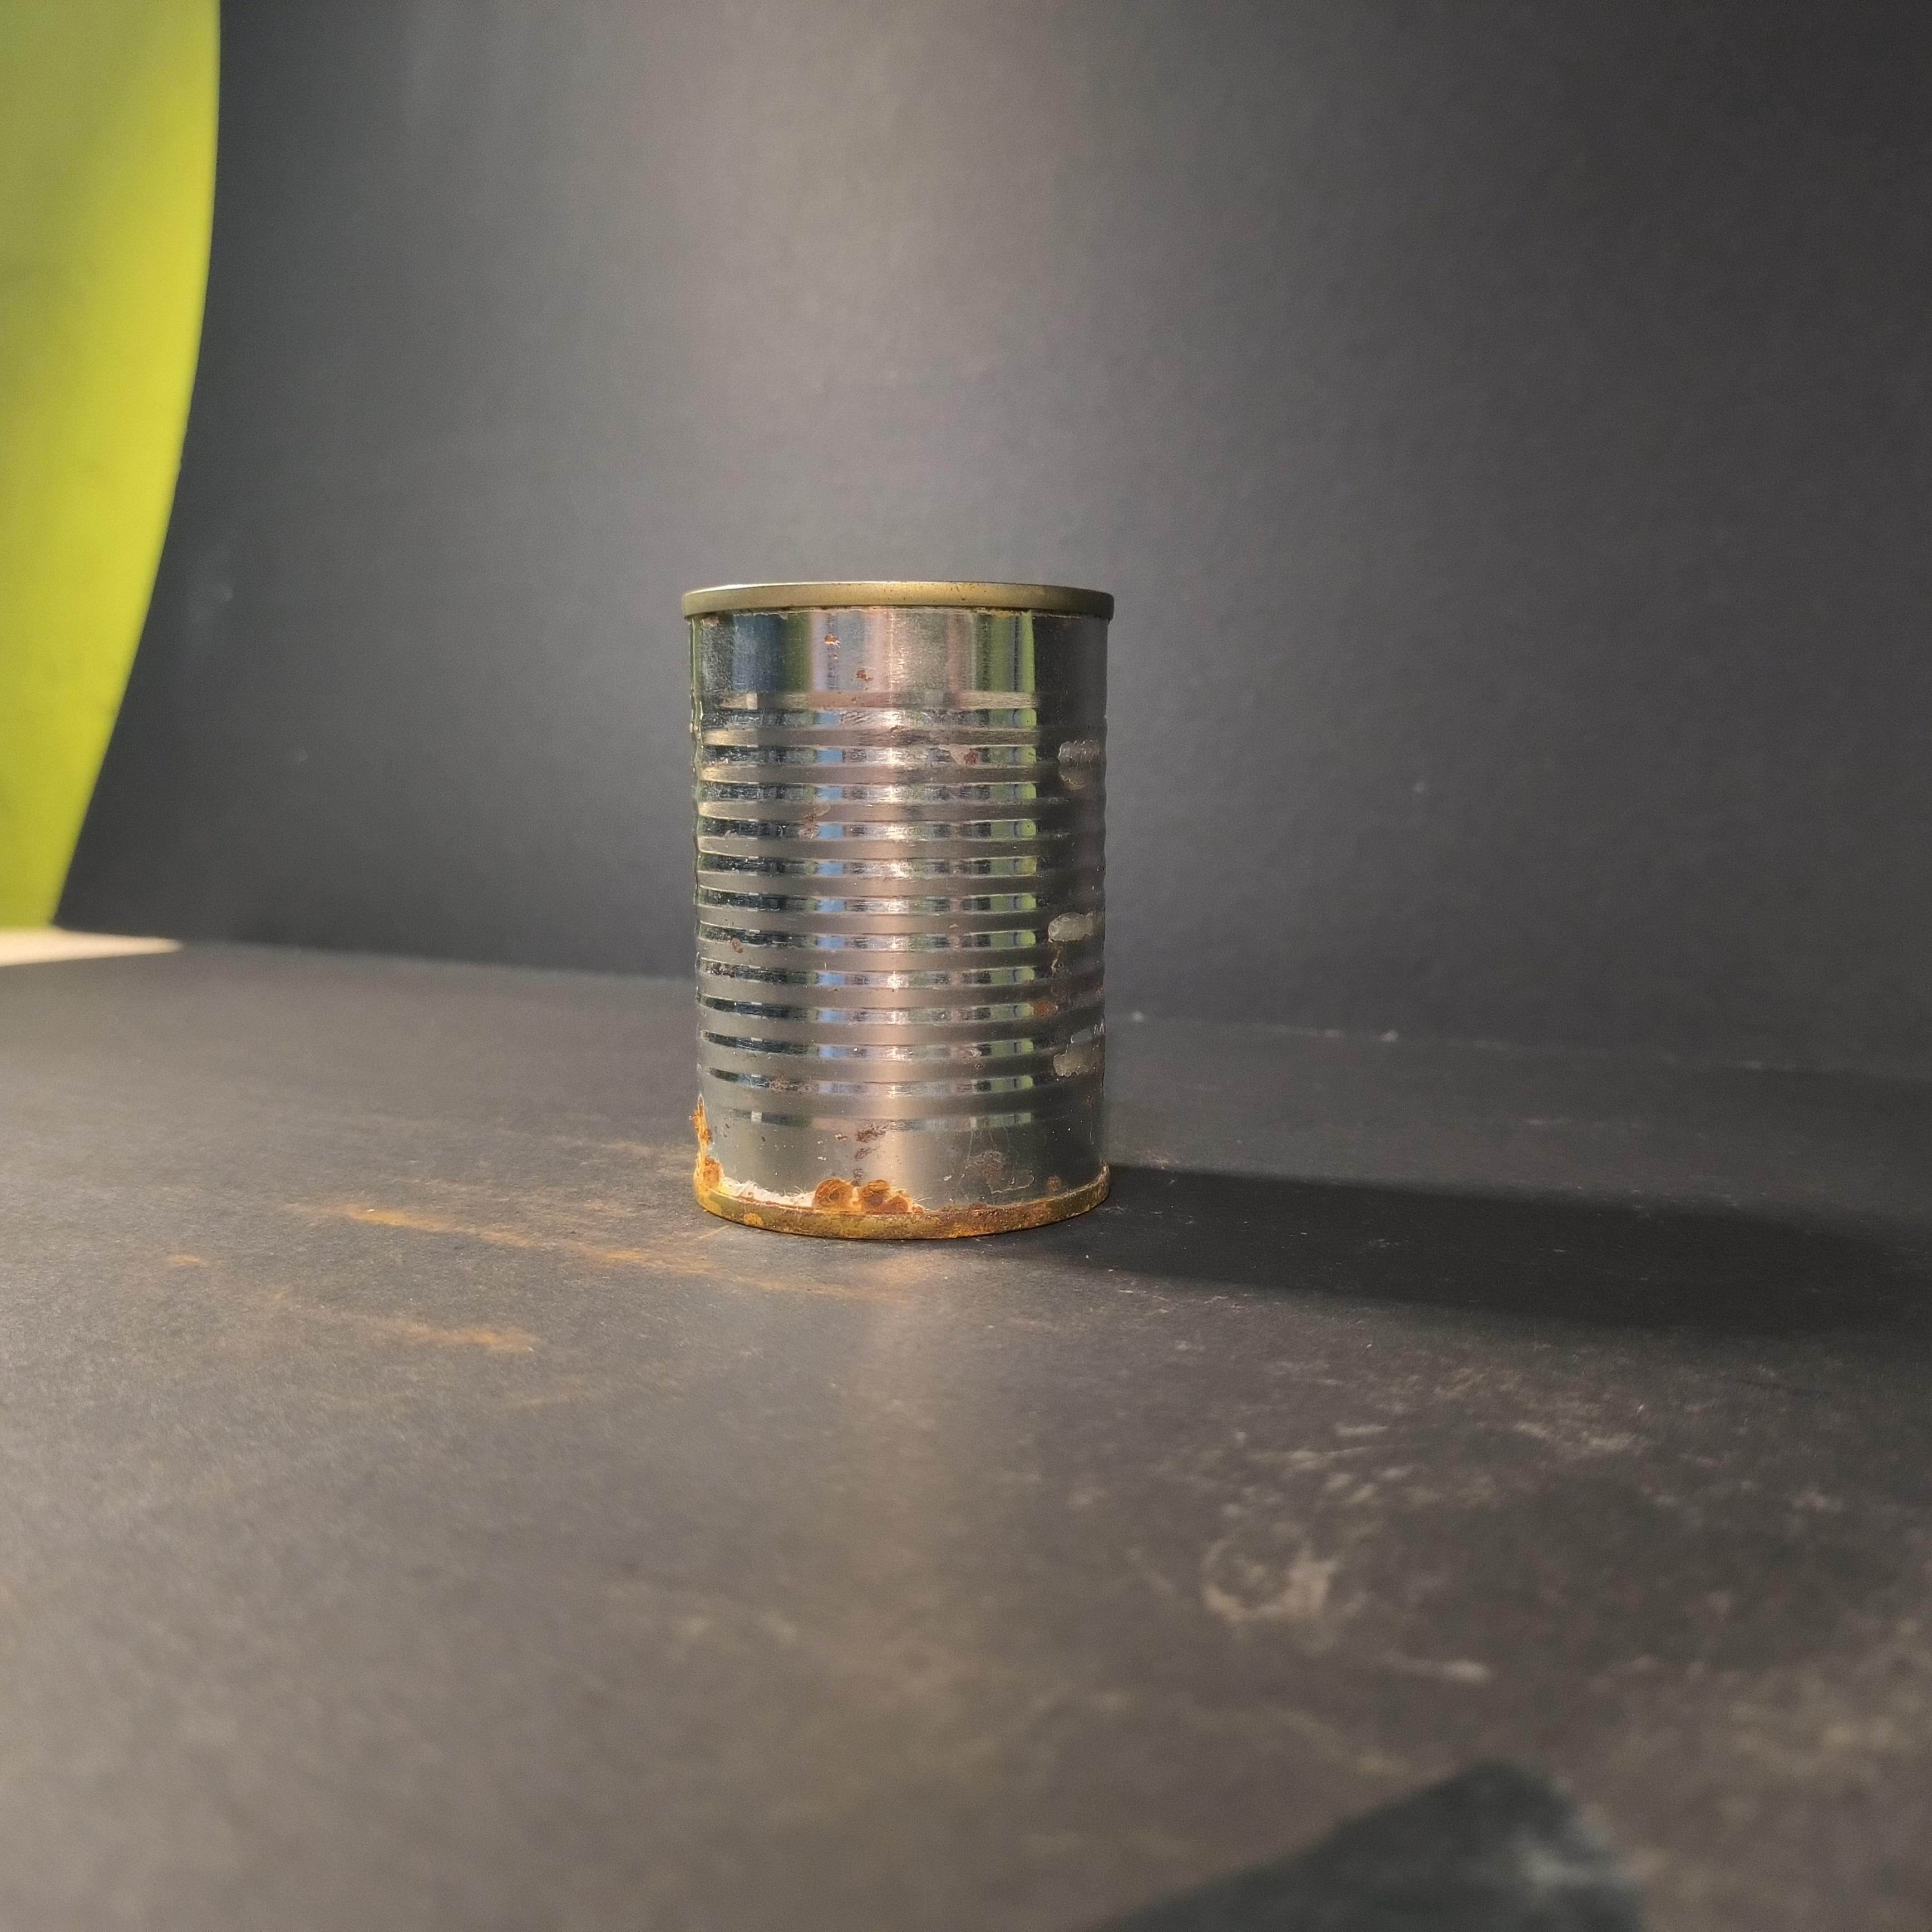Rusted: (667, 557, 1132, 1260)
